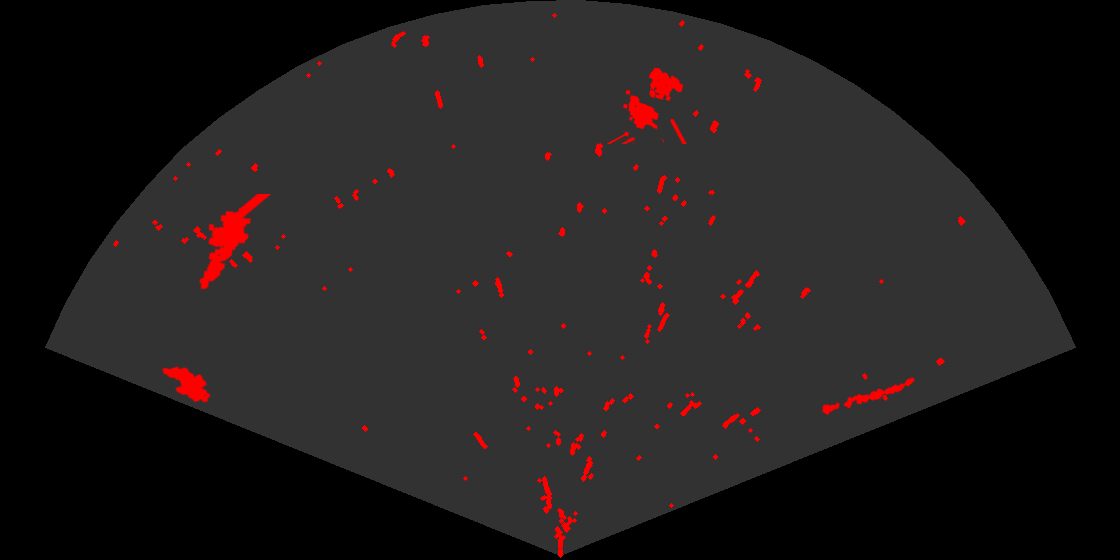AUV: (160, 365, 212, 404)
cage: (606, 66, 688, 144)
chain: (820, 376, 917, 417)
frogman: (197, 194, 272, 291)
